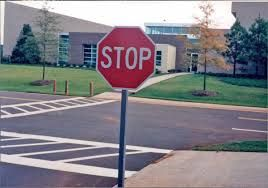stop_sign: (95, 26, 157, 89)
